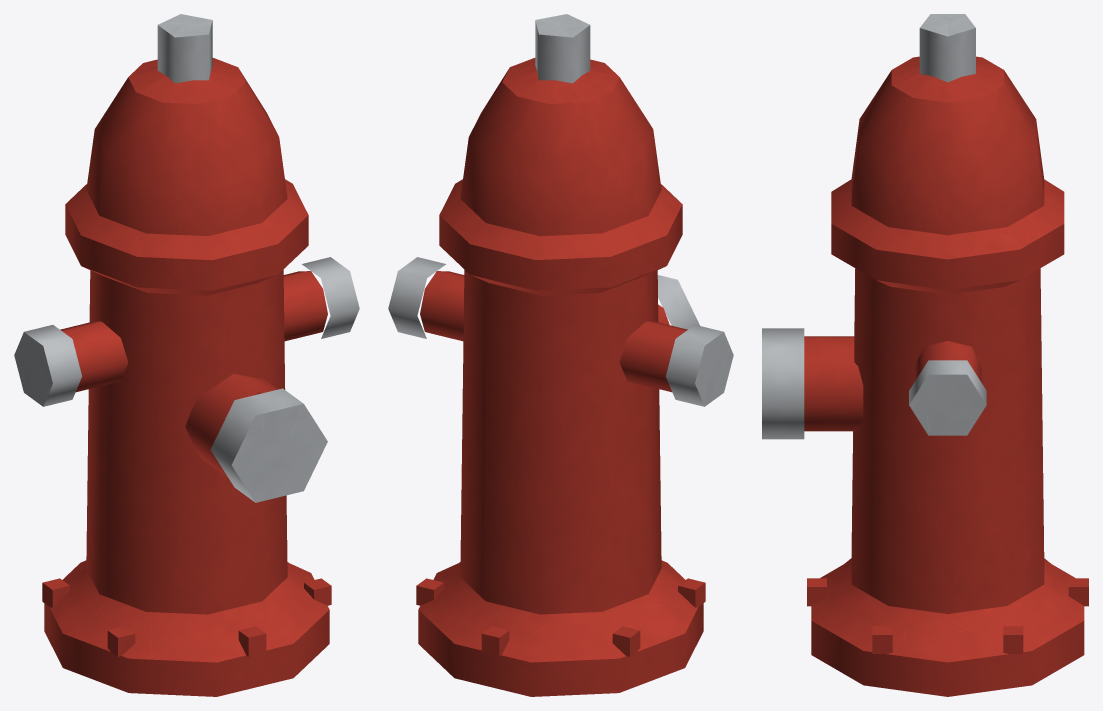
File: fire_hydrant.gltf
The picture shows the model from 3 angles, left to right: view 1: azimuth 30°, elevation 25°; view 2: azimuth 150°, elevation 25°; view 3: azimuth 270°, elevation 25°; orthographic projection.
Parts seen in each view (by area): view 1: fire_hydrant; view 2: fire_hydrant; view 3: fire_hydrant.
Boxes of the visible parts, <box> form: fire_hydrant: <box>14,14,359,696</box>; fire_hydrant: <box>388,14,733,696</box>; fire_hydrant: <box>762,14,1088,696</box>.
Bounding box in the file's own units: 0.483 × 0.92 × 0.445.
Materials: 2 (2 with a texture image).
